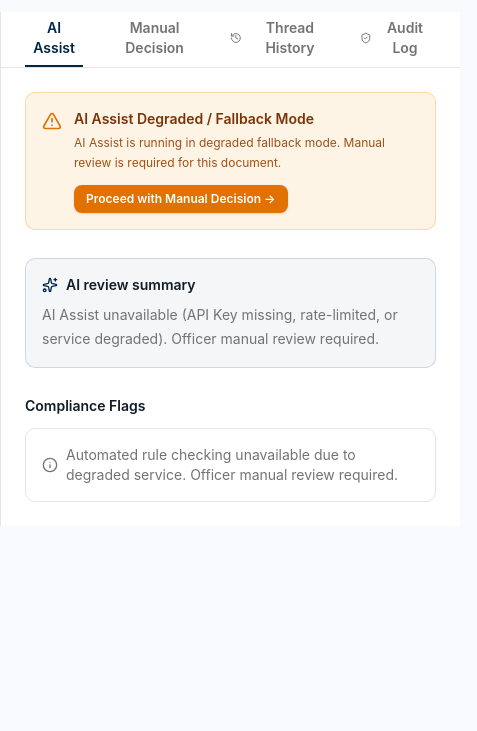
ReviewPanel Degraded State Handling › renders degraded AI state banner and notice when AI assist is in degraded fallback mode
The width and height of the screenshot is (477, 731).
Expected: the element with test id "degraded-state-banner" is shown, [25,92,436,230]
Expected: the heading "AI Assist Degraded / Fallback Mode" is shown, [74,110,314,127]
Click the button "Proceed with Manual Decision →" at (181, 199), box [74,185,288,213]
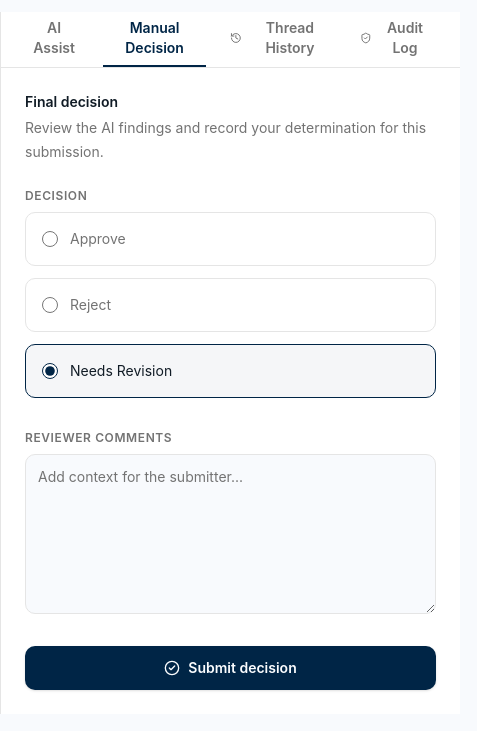
Result: the heading "Final decision" is shown at [25,93,118,110]
Result: the text "Review the AI findings and record your determination" is shown at [25,119,426,160]
